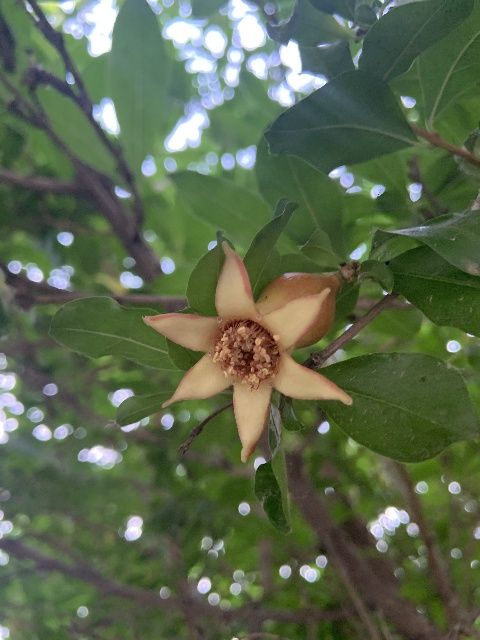early-fruit: (143, 241, 353, 463)
